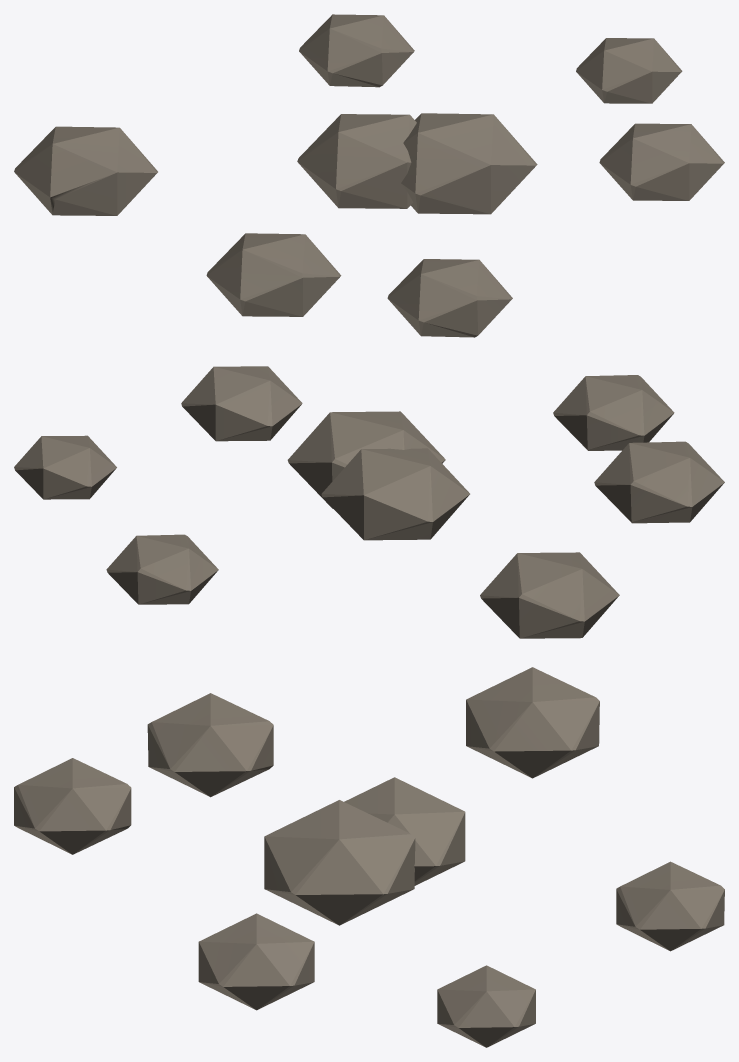
The model's file is prop_scree_lod2.glb.
3 renders of one model, top to bottom at view 1: azimuth 30°, elevation 25°; view 2: azimuth 150°, elevation 25°; view 3: azimuth 270°, elevation 25°, orthographic. The views are drawn at different scales.
Parts seen in each view (by area): view 1: prop_scree_lod2; view 2: prop_scree_lod2; view 3: prop_scree_lod2.
Part boxes in pixels (<box>): prop_scree_lod2: <box>14,14,724,337</box>; prop_scree_lod2: <box>14,366,724,638</box>; prop_scree_lod2: <box>14,667,724,1047</box>.
Bounding box in the file's own units: 1.65 × 0.2134 × 1.55.
